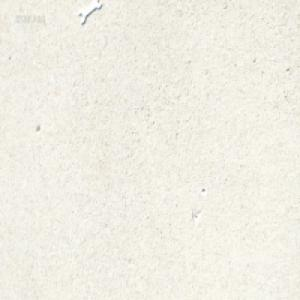Wrench: (79, 0, 102, 24)
